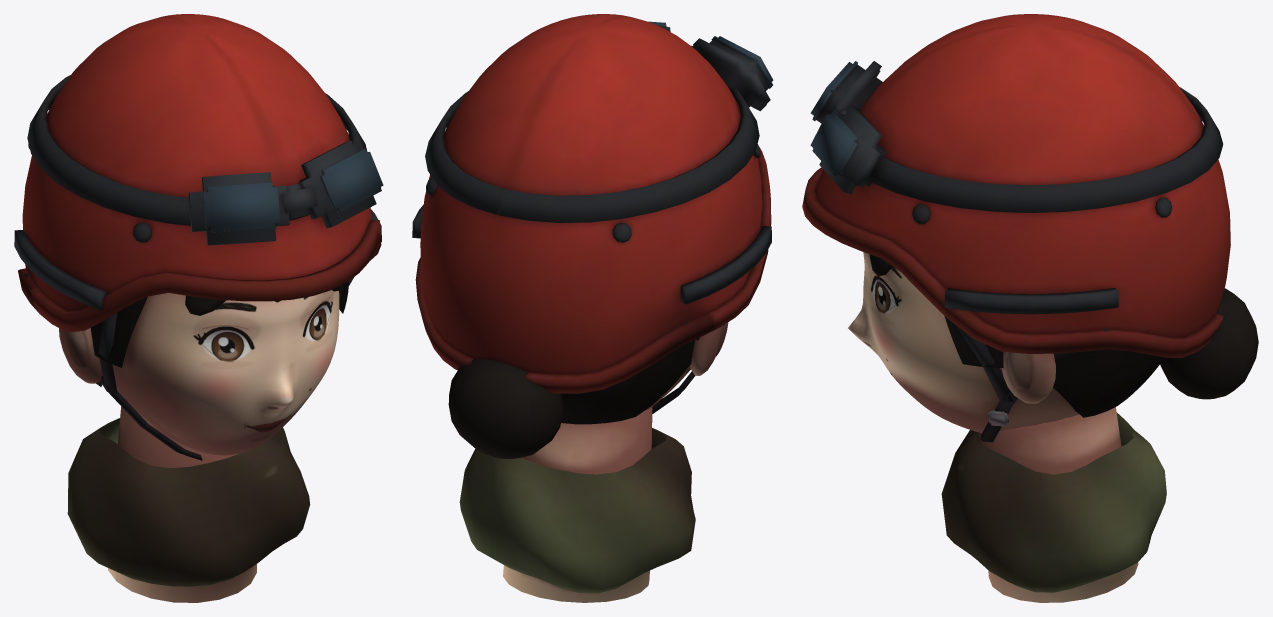
Rendered from cabeza-flamer-f.glb.
3 renders of one model, left to right at view 1: azimuth 30°, elevation 25°; view 2: azimuth 150°, elevation 25°; view 3: azimuth 270°, elevation 25°, orthographic. The views are drawn at different scales.
Parts seen in each view (by area): view 1: h_Head; view 2: h_Head; view 3: h_Head.
Boxes of the visible parts, x1,y1,x2,y2 form: h_Head: (14,14,383,602); h_Head: (412,14,773,602); h_Head: (802,14,1258,602).
Bounding box in the file's own units: 0.2296 × 0.3958 × 0.2968.
Materials: 1 (1 with a texture image).
